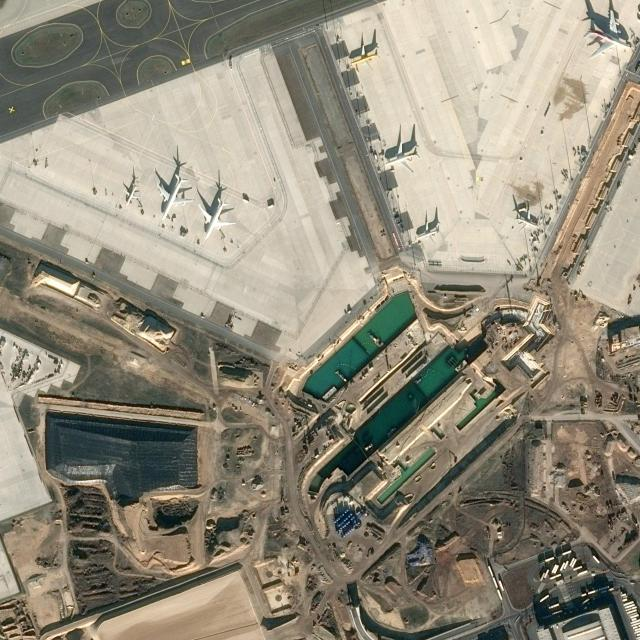aircraft: (582, 9, 631, 58), (583, 9, 631, 59), (156, 174, 194, 222), (155, 172, 193, 220), (198, 196, 235, 240), (198, 198, 236, 240), (384, 137, 420, 173), (384, 142, 420, 172), (348, 41, 381, 70), (350, 42, 380, 68), (513, 206, 539, 232), (415, 218, 441, 244), (513, 207, 539, 232), (416, 218, 440, 244), (122, 182, 140, 206), (124, 182, 140, 206)
